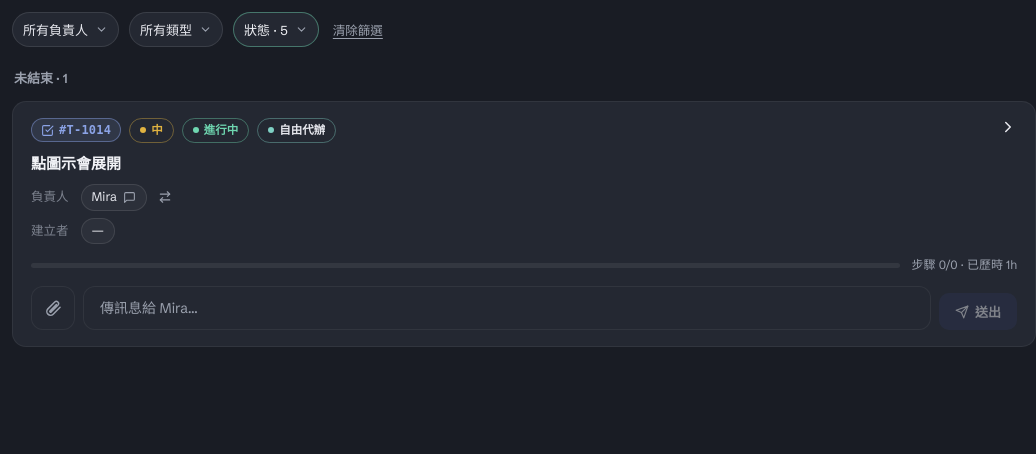
Test case: T-17be ④ 展開圖示仍是純指示、不是控制項 › clicking the chevron ICON still expands the card (it must not become a button)
Click the 5th icon.
click(1008, 126)  # box [999,118,1017,136]
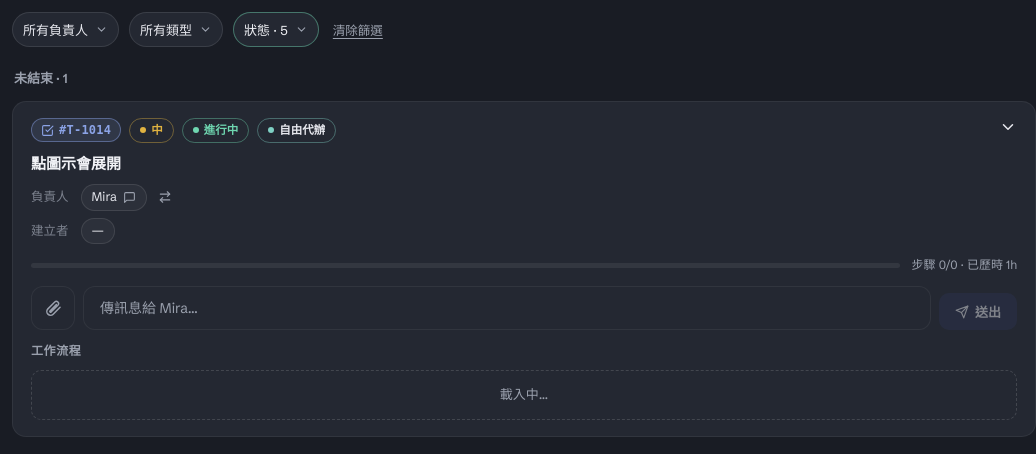
Expected: the button with test id "task-card" is expanded
Click the 5th icon.
click(1008, 126)  # box [999,118,1017,136]
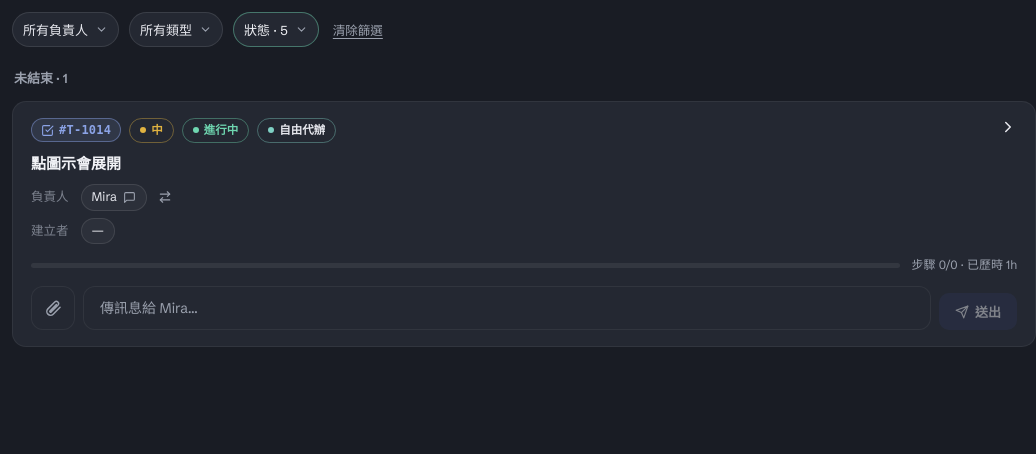
Expected: the button with test id "task-card" is collapsed, [12,100,1035,347]
